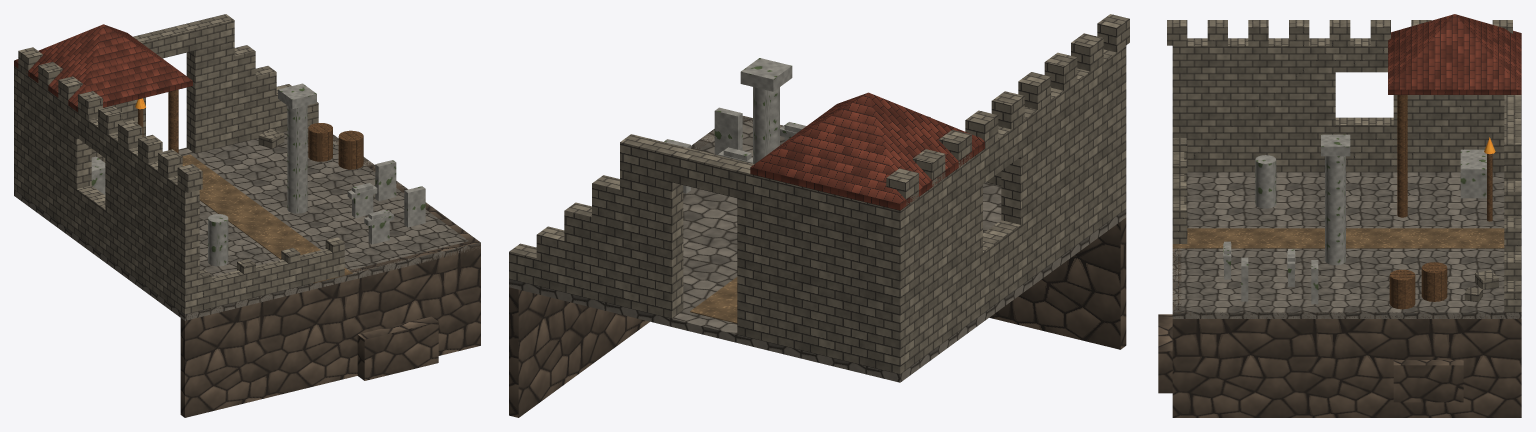
The model's file is tristram_courtyard.obj.
3 renders of one model, left to right at view 1: azimuth 30°, elevation 25°; view 2: azimuth 150°, elevation 25°; view 3: azimuth 270°, elevation 25°, orthographic. The views are drawn at different scales.
Parts seen in each view (by area): view 1: cliff_south, floor_flagstones, wall_west_b, wall_west_a, roof_shrine, wall_north_b, floor_path_dirt, wall_balustrade, cliff_south_outcrop, pillar_whole, wall_north_ruin_0, wall_west_sill (+28 smaller); view 2: wall_north_a, wall_west_b, wall_west_a, floor_flagstones, roof_shrine, wall_north_b, cliff_east, cliff_south, wall_north_ruin_0, wall_west_sill, wall_north_lintel, wall_north_ruin_1 (+17 smaller); view 3: floor_flagstones, cliff_east, wall_west_b, roof_shrine, wall_west_a, floor_path_dirt, cliff_east_outcrop, wall_west_sill, pillar_whole, wall_west_lintel, shrine_post, altar (+25 smaller).
Part boxes in pixels (<box>): cliff_south: <box>180,239,480,417</box>; floor_flagstones: <box>14,126,480,320</box>; wall_west_b: <box>105,132,199,314</box>; wall_west_a: <box>14,66,91,234</box>; roof_shrine: <box>14,24,192,106</box>; wall_north_b: <box>186,14,234,153</box>; floor_path_dirt: <box>182,154,352,283</box>; wall_balustrade: <box>199,249,332,310</box>; cliff_south_outcrop: <box>357,316,438,380</box>; pillar_whole: <box>287,105,307,213</box>; wall_north_ruin_0: <box>234,45,255,143</box>; wall_west_sill: <box>76,185,105,255</box>; wall_north_a: <box>737,162,909,374</box>; wall_west_b: <box>1001,45,1126,285</box>; wall_west_a: <box>880,150,982,374</box>; floor_flagstones: <box>509,116,1126,382</box>; roof_shrine: <box>751,92,984,203</box>; wall_north_b: <box>620,134,683,318</box>; cliff_east: <box>509,129,714,417</box>; cliff_south: <box>743,116,1126,349</box>; wall_north_ruin_0: <box>592,175,619,305</box>; wall_west_sill: <box>983,220,1020,313</box>; wall_north_lintel: <box>672,147,747,197</box>; wall_north_ruin_1: <box>564,202,591,299</box>; floor_flagstones: <box>1172,172,1521,318</box>; cliff_east: <box>1172,312,1521,417</box>; wall_west_b: <box>1172,38,1335,172</box>; roof_shrine: <box>1388,14,1521,89</box>; wall_west_a: <box>1393,95,1504,172</box>; floor_path_dirt: <box>1172,228,1504,248</box>; cliff_east_outcrop: <box>1393,360,1463,402</box>; wall_west_sill: <box>1335,117,1393,172</box>; pillar_whole: <box>1325,156,1345,265</box>; wall_west_lintel: <box>1335,38,1387,72</box>; shrine_post: <box>1397,95,1407,217</box>; altar: <box>1460,149,1486,198</box>.
Bounding box in the file's own units: 6.22 × 5.4 × 6.25.
Materials: 8 (8 with a texture image).
